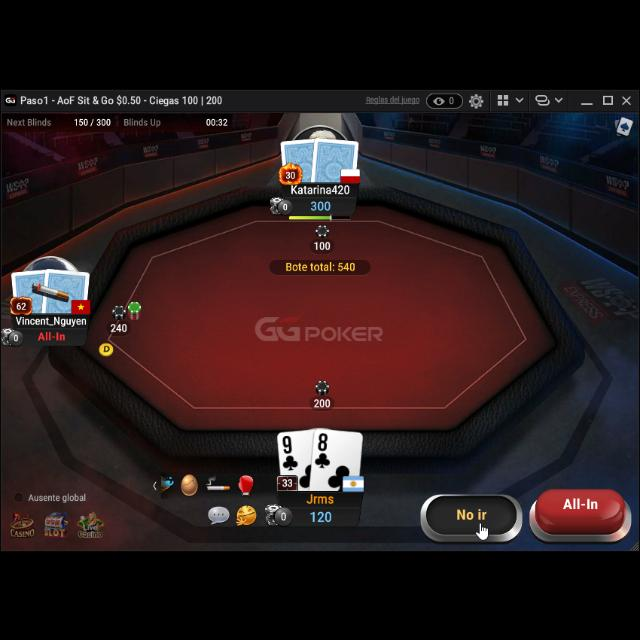8c: (313, 429, 333, 468)
9c: (280, 432, 300, 470)
all_in_symbol: (38, 327, 66, 339)
bet_text: (314, 236, 332, 250), (313, 394, 331, 406), (110, 320, 128, 330)
card_back: (310, 132, 360, 184), (40, 264, 91, 308), (280, 133, 322, 181), (8, 266, 50, 312)
dealer: (97, 338, 115, 354)
pot_text: (284, 258, 358, 272)
stack_text: (311, 506, 334, 520), (310, 196, 332, 210)
